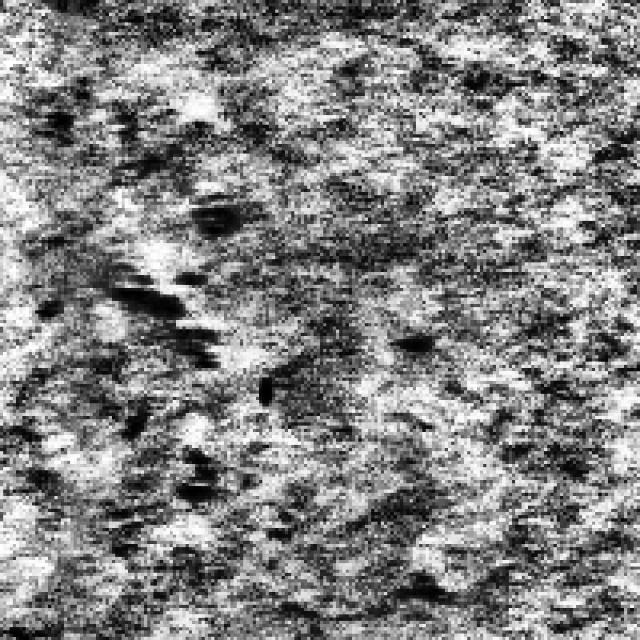Crazing: (96, 185, 234, 512)
